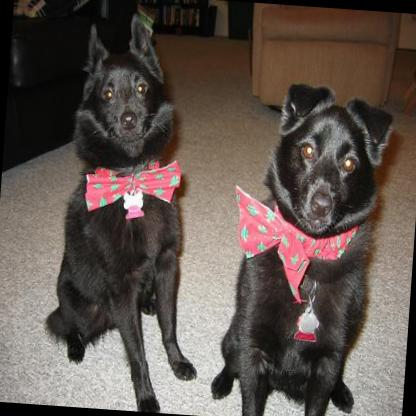schipperke: (40, 8, 220, 414), (207, 74, 396, 416)
